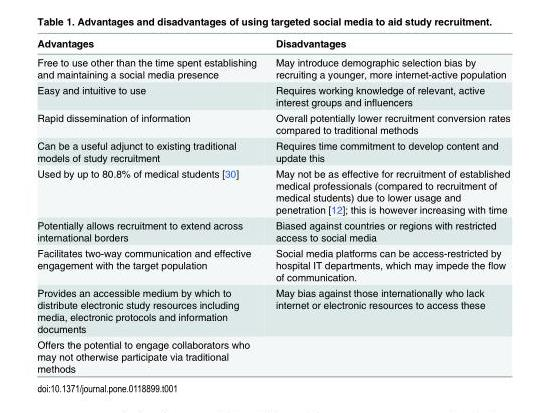table: (36, 36, 509, 373)
table column: (265, 36, 509, 373), (36, 36, 265, 373)
table column header: (36, 36, 509, 52)
table row: (36, 284, 509, 336), (36, 165, 509, 216), (36, 244, 509, 284), (36, 336, 509, 373), (36, 52, 509, 81), (36, 81, 509, 109), (36, 109, 509, 137), (36, 137, 509, 165), (36, 216, 509, 244), (36, 36, 509, 52)
